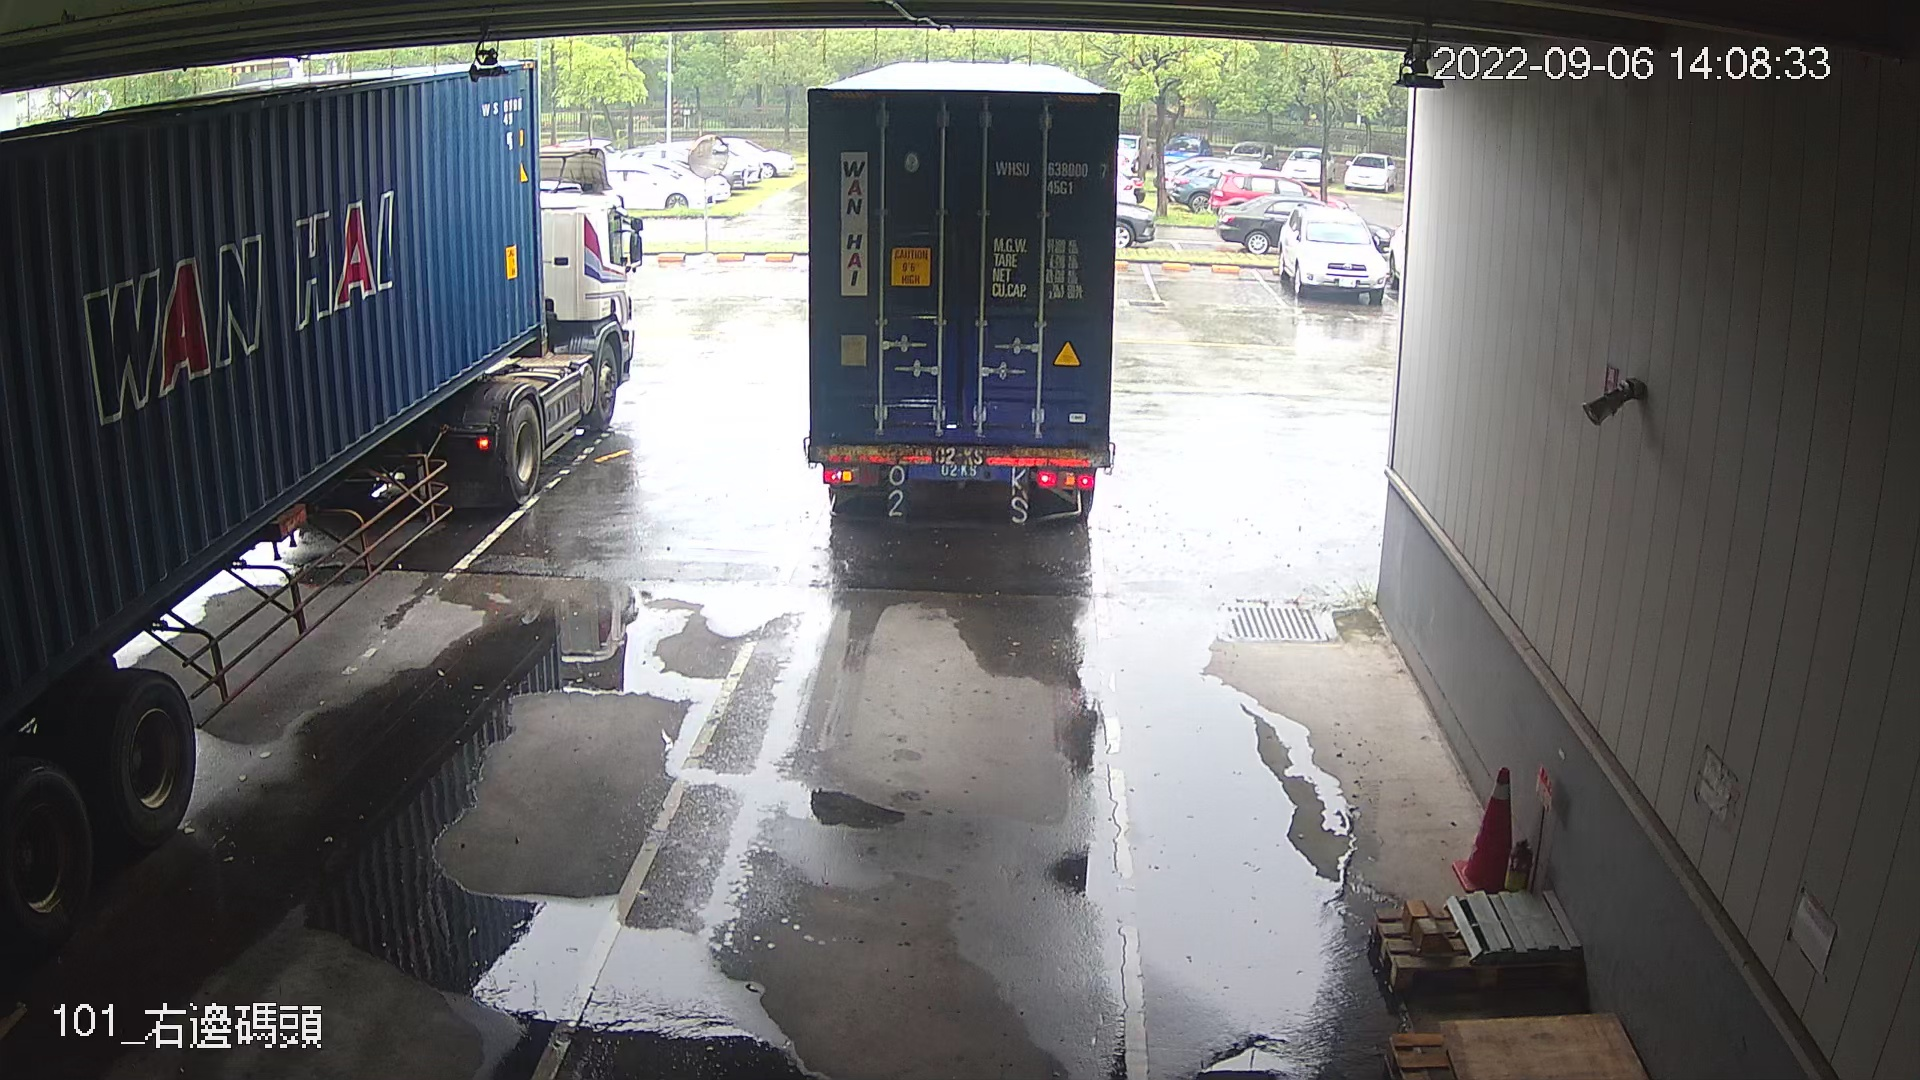container: (992, 152, 1112, 202)
